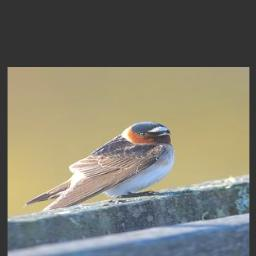Swallow: (23, 121, 177, 215)
